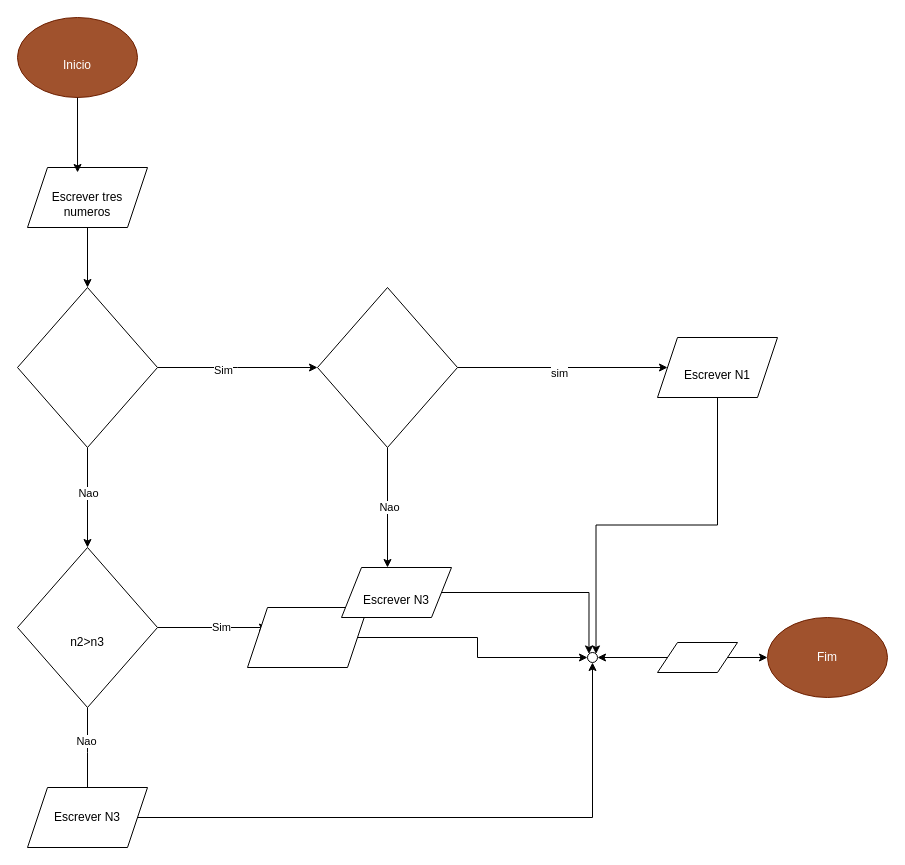
Image size: 905x865. Some labels were removed from this diagram. The box of each missing label's shape, as (x1, y1, x2, y2) in pixels:
Escrever N2: (246, 606, 368, 668)
Imprimir: (656, 642, 738, 672)
n1>n2: (16, 286, 158, 448)
n1>n3: (316, 286, 458, 448)
